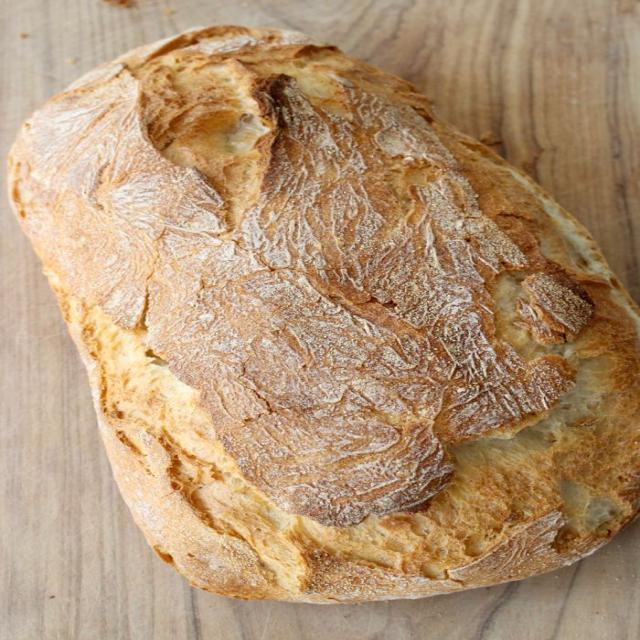Ciabatta: (10, 26, 639, 602)
